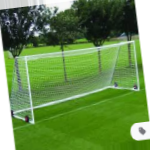goals: (9, 41, 140, 123)
